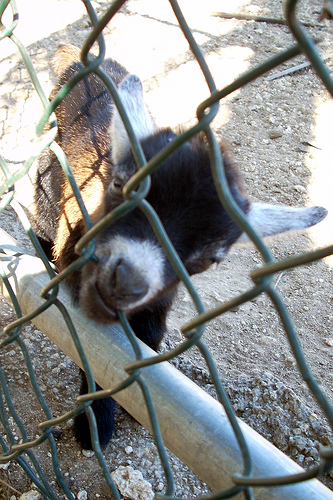goat: (19, 41, 328, 450)
